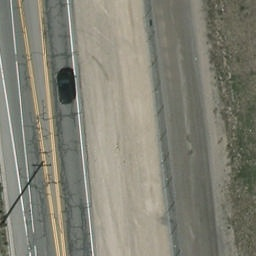car: (57, 70, 77, 104)
